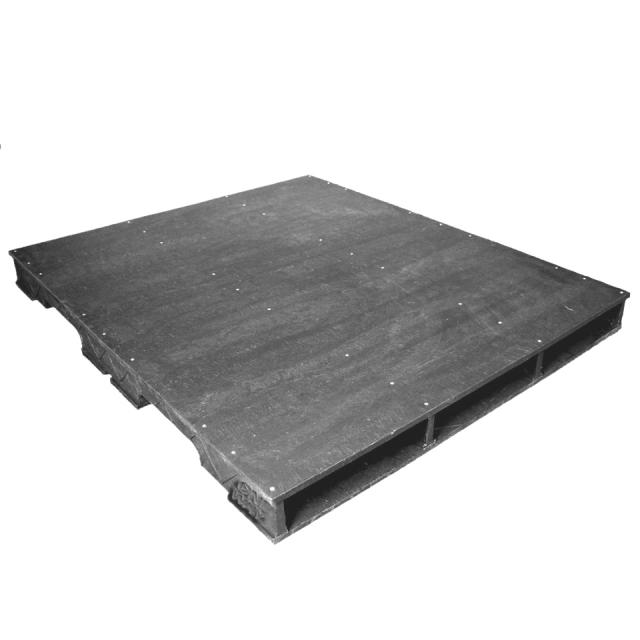non-igps: (4, 168, 636, 552)
